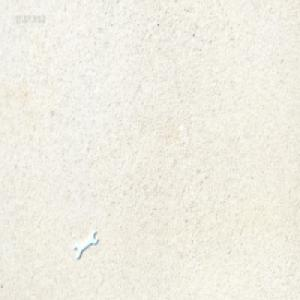Wrench: (75, 231, 100, 260)
